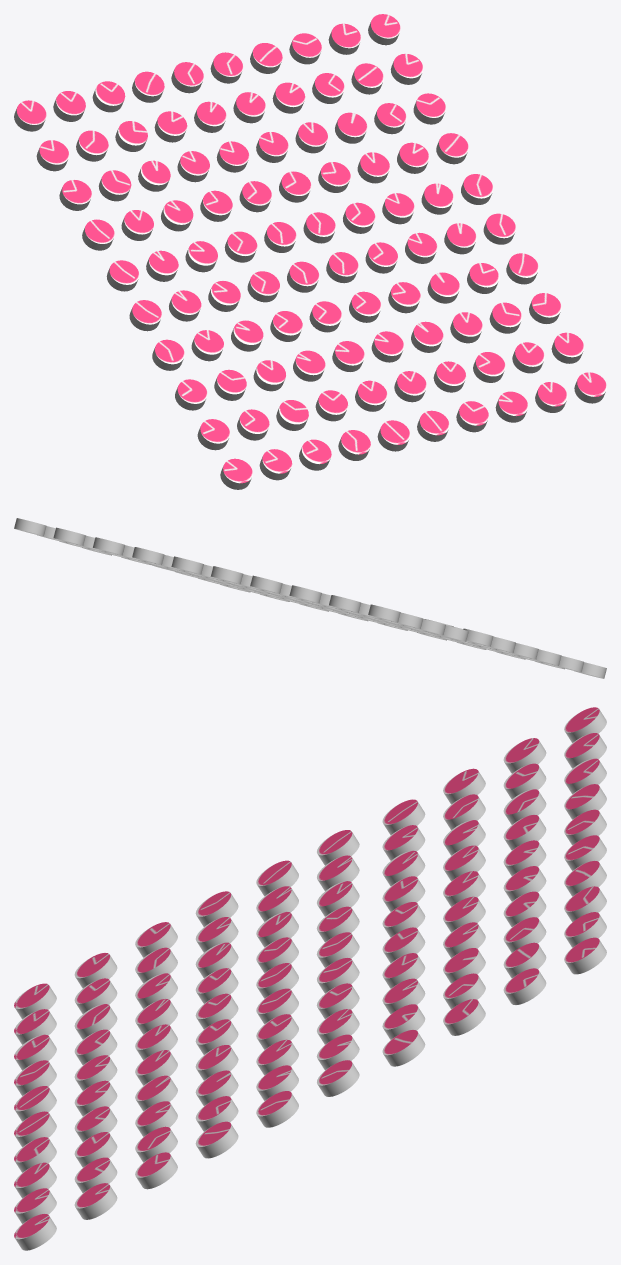
The picture shows the model from 3 angles, top to bottom: view 1: azimuth 30°, elevation 25°; view 2: azimuth 150°, elevation 25°; view 3: azimuth 270°, elevation 25°; orthographic projection. The views are drawn at different scales.
Visible parts, largest first — view 1: no part large enough to name; view 2: SketchUp (×19); view 3: no part large enough to name.
Boxes of the visible parts, bbox=[...] form: SketchUp (×19): bbox=[14, 518, 606, 678].
Bounding box in the file's own units: 121 × 122 × 69.77.
2 materials, 1 textured.
